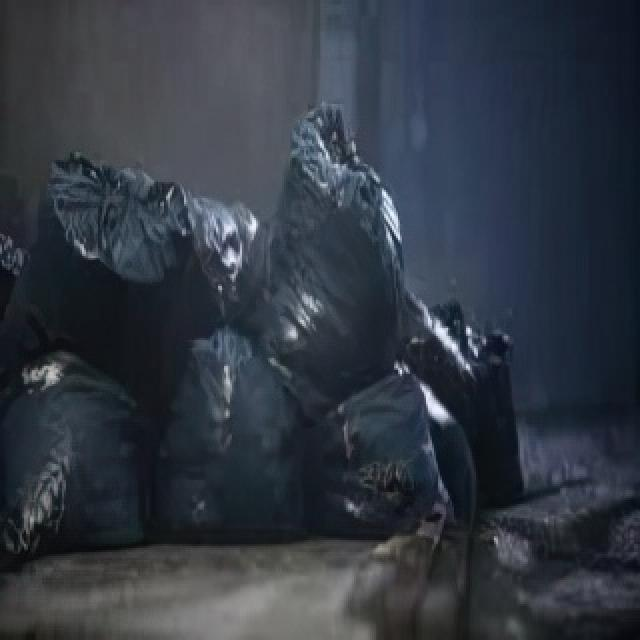Trashbag: (12, 161, 195, 363), (266, 137, 409, 376), (134, 337, 292, 545), (286, 366, 440, 534), (4, 378, 144, 549), (432, 298, 528, 510), (183, 187, 271, 327)
